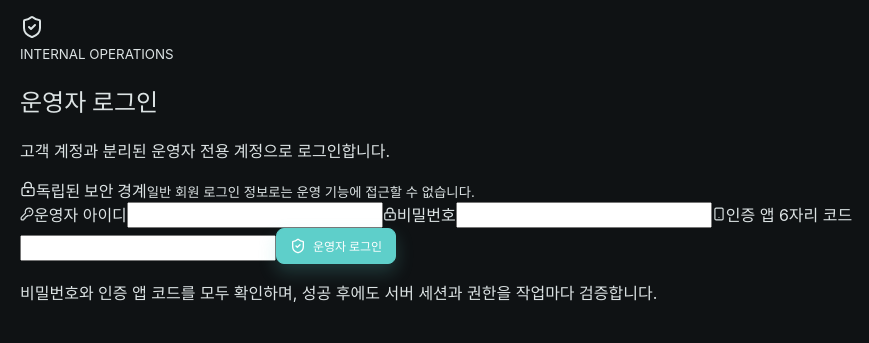
Test case: operator authentication view › shows a useful localized rejection without revealing which credential failed
Type "operator" into the field labelled "운영자 아이디" at (255, 215), box [127, 202, 383, 228]
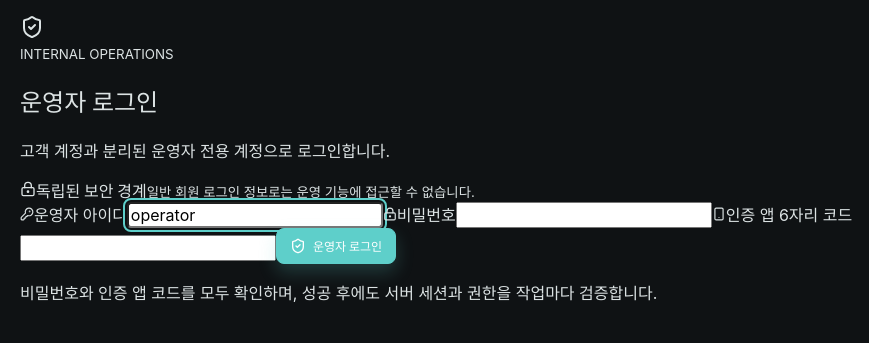
Type "wrong-password" into the password field labelled "비밀번호" at (584, 215), box [456, 202, 712, 228]
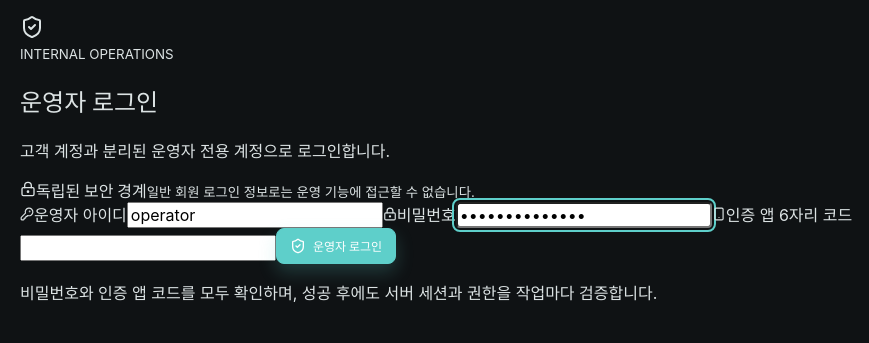
Type "123456" into the field labelled "인증 앱 6자리 코드" at (148, 248), box [20, 235, 276, 261]
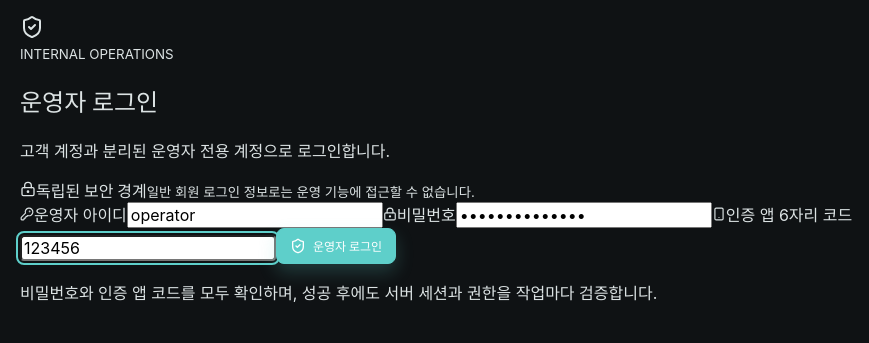
Click the button "운영자 로그인" at (336, 246), box [276, 228, 396, 264]
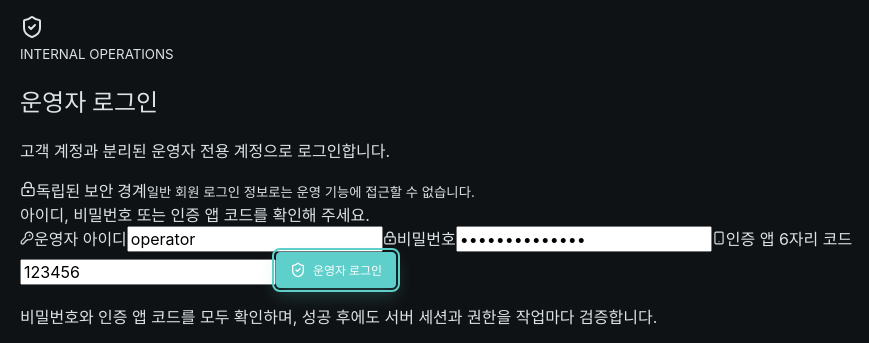
expect the message reads "아이디, 비밀번호 또는 인증 앱 코드를 확인해 주세요.": met, box [20, 205, 370, 225]
